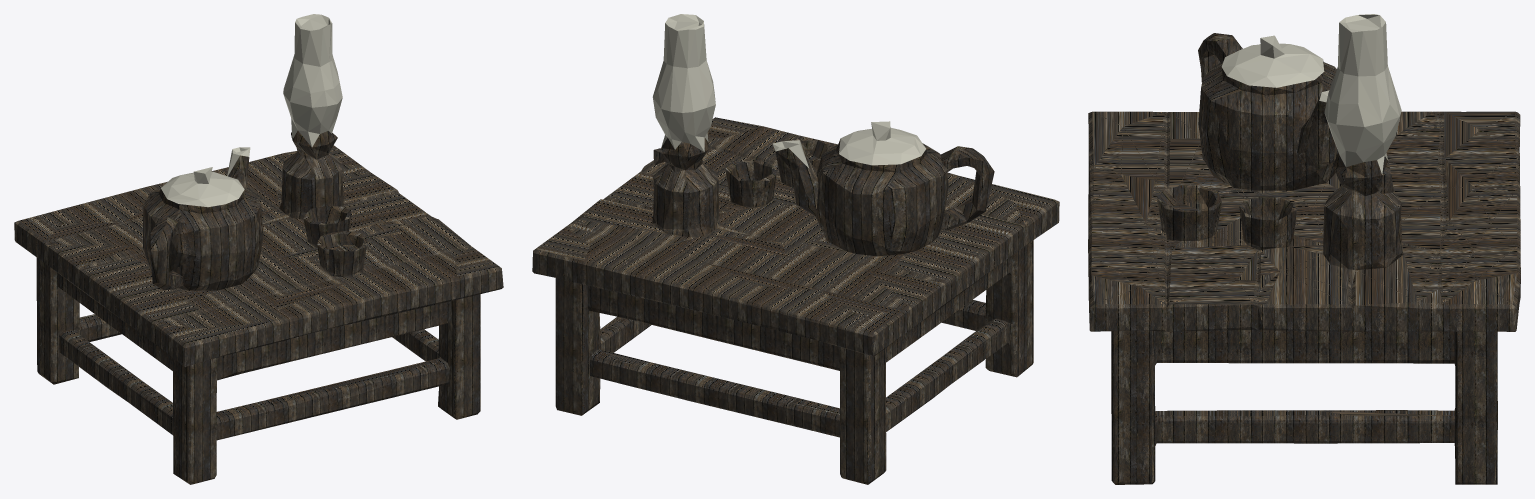
The model's file is low_table_tea_reduced.glb.
The picture shows the model from 3 angles, left to right: view 1: azimuth 30°, elevation 25°; view 2: azimuth 150°, elevation 25°; view 3: azimuth 270°, elevation 25°; orthographic projection. The views are drawn at different scales.
Parts seen in each view (by area): view 1: WornWood, WovenMatOrCeramic; view 2: WornWood, WovenMatOrCeramic; view 3: WornWood, WovenMatOrCeramic.
Boxes of the visible parts, bbox=[...] form: WornWood: bbox=[14, 130, 503, 484]; WovenMatOrCeramic: bbox=[161, 14, 342, 207]; WornWood: bbox=[532, 117, 1059, 484]; WovenMatOrCeramic: bbox=[652, 14, 925, 168]; WornWood: bbox=[1088, 33, 1520, 484]; WovenMatOrCeramic: bbox=[1221, 14, 1401, 174].
Size of the model in its own units: 1.98 by 1.99 by 1.84.
Materials: 2 (1 with a texture image).
